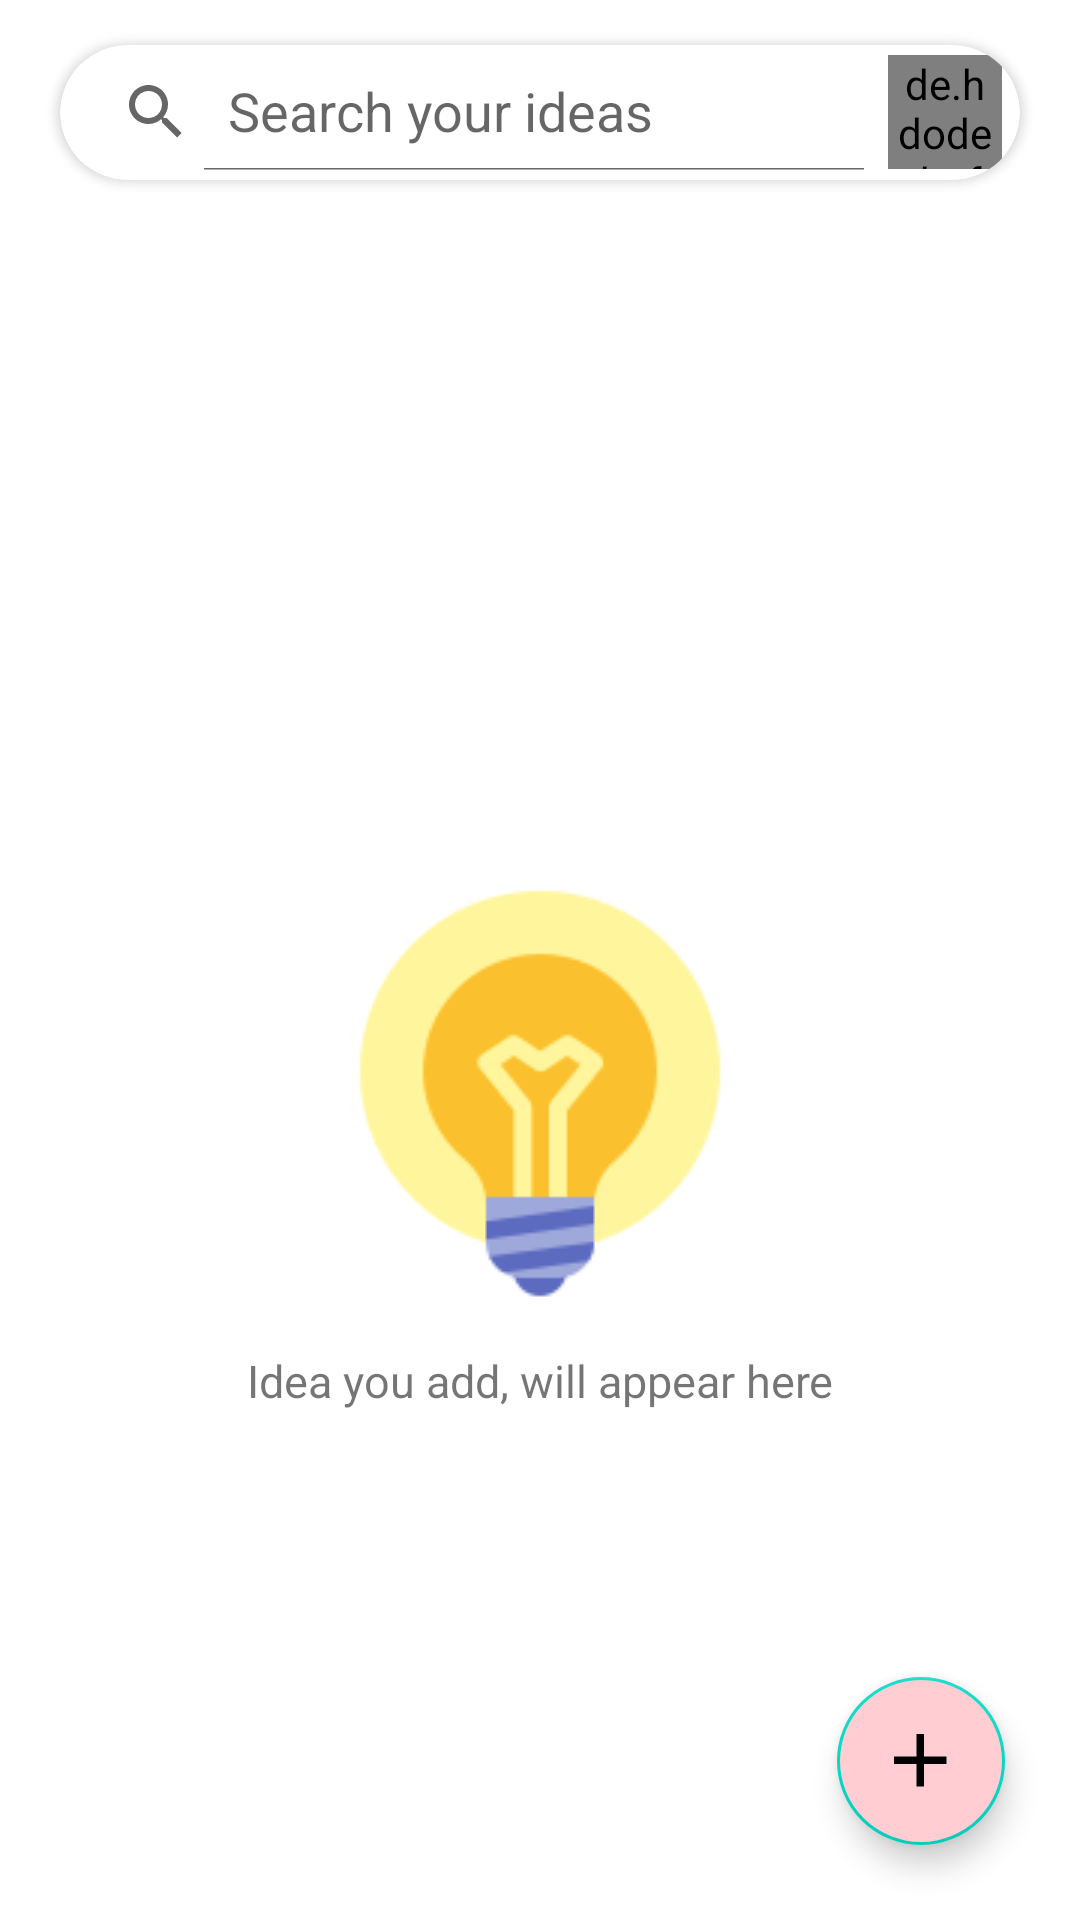

Point at icon controls on the screen. Image size 1080 x 1920, points as (x,y).
plus: (921,1761)
